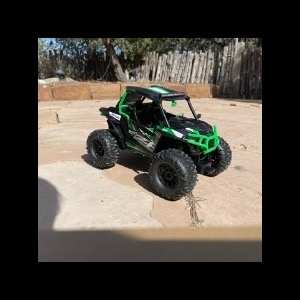polaris: (85, 83, 235, 204)
